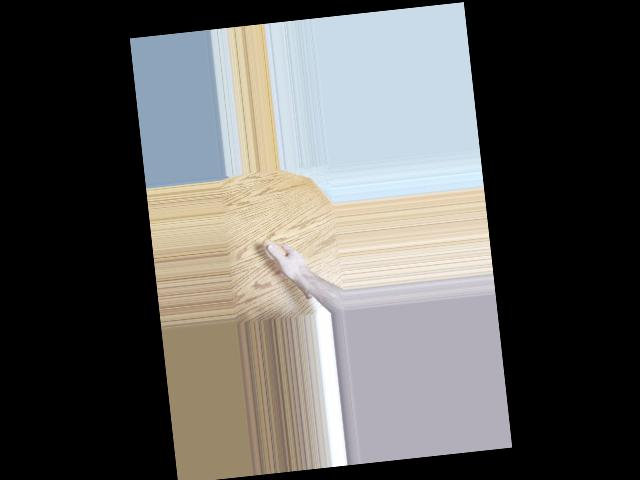sweet_potato: (262, 233, 315, 305)
